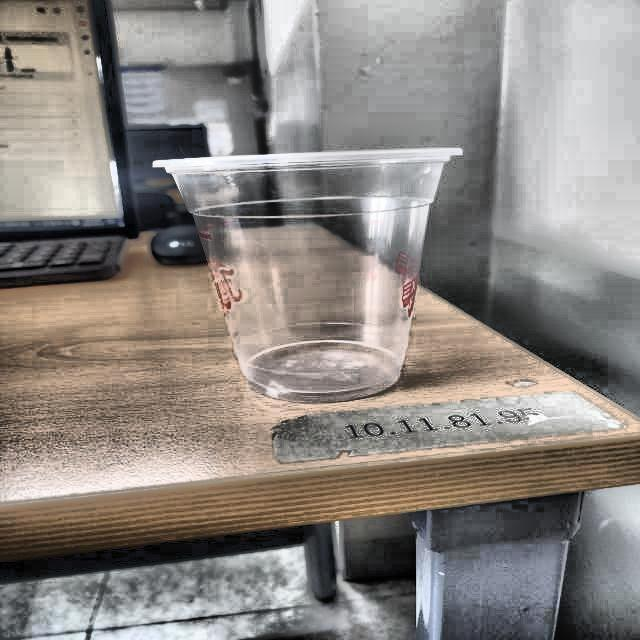plastic cup: (150, 145, 470, 401)
